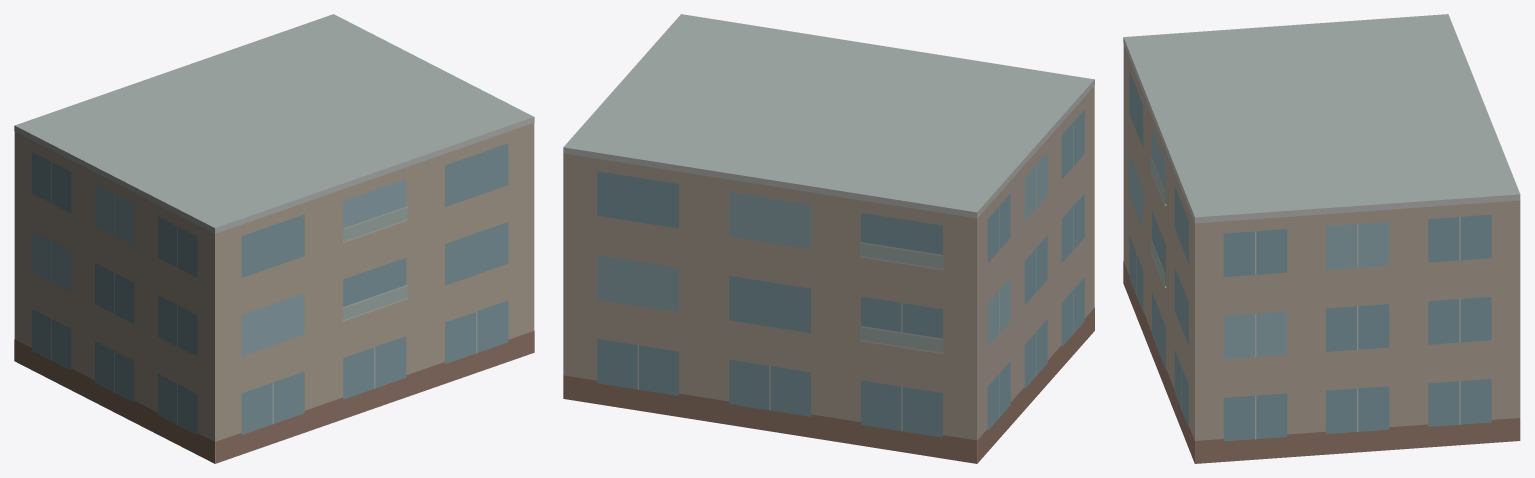
The model's file is survey-upis-32881638.glb.
3 renders of one model, left to right at view 1: azimuth 30°, elevation 25°; view 2: azimuth 150°, elevation 25°; view 3: azimuth 270°, elevation 25°, orthographic. The views are drawn at different scales.
Parts seen in each view (by area): view 1: survey-upis-32881638.tmp; view 2: survey-upis-32881638.tmp; view 3: survey-upis-32881638.tmp.
Part boxes in pixels (box(x1,y1,x2,y2)): survey-upis-32881638.tmp: box(14, 14, 534, 463); survey-upis-32881638.tmp: box(563, 14, 1094, 463); survey-upis-32881638.tmp: box(1123, 14, 1520, 463).
Size of the model in its own units: 17.8 by 10.05 by 14.68.
